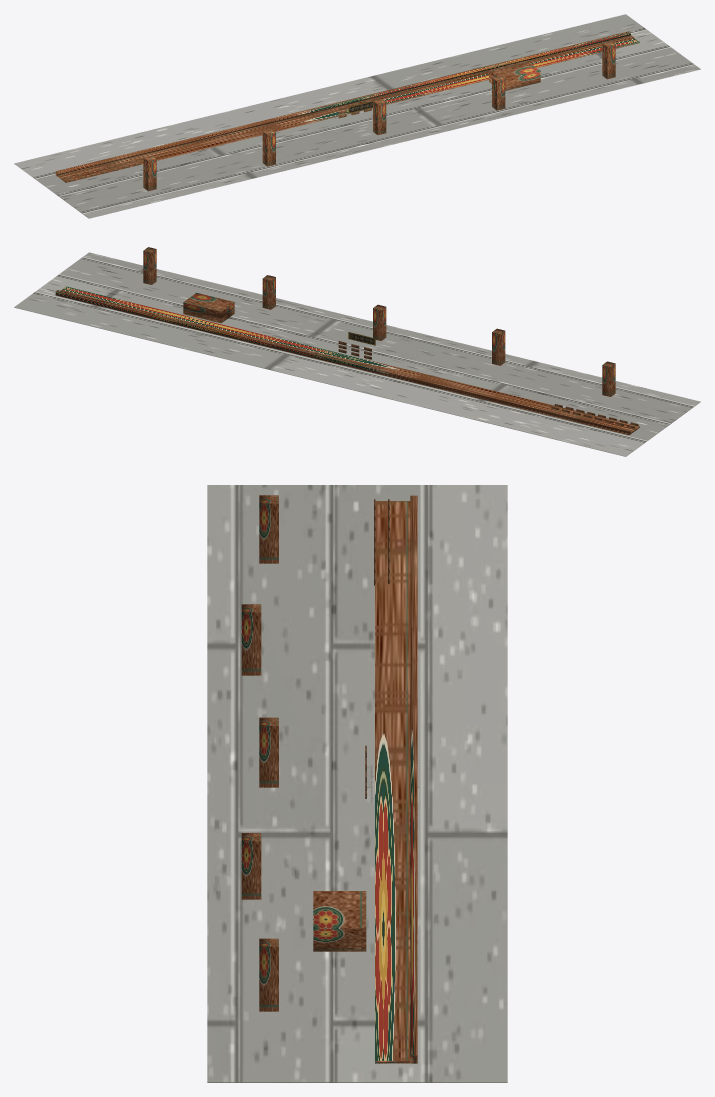
3 renders of one model, top to bottom at view 1: azimuth 30°, elevation 25°; view 2: azimuth 150°, elevation 25°; view 3: azimuth 270°, elevation 25°, orthographic. The views are drawn at different scales.
Parts seen in each view (by area): view 1: 11140_02_04628_048_01_L2__base, 11140_02_04628_048_02_L2__body, 11140_02_04628_048_06_L2__green, 11140_02_04628_048_05_L2__openings; view 2: 11140_02_04628_048_01_L2__base, 11140_02_04628_048_02_L2__body, 11140_02_04628_048_06_L2__green, 11140_02_04628_048_05_L2__openings; view 3: 11140_02_04628_048_01_L2__base, 11140_02_04628_048_02_L2__body, 11140_02_04628_048_06_L2__green.
Part boxes in pixels (box(x1,y1,x2,y2)): 11140_02_04628_048_01_L2__base: box(14, 14, 700, 218); 11140_02_04628_048_02_L2__body: box(55, 31, 639, 182); 11140_02_04628_048_06_L2__green: box(143, 41, 615, 191); 11140_02_04628_048_05_L2__openings: box(64, 99, 371, 182); 11140_02_04628_048_01_L2__base: box(14, 252, 700, 456); 11140_02_04628_048_02_L2__body: box(55, 286, 639, 435); 11140_02_04628_048_06_L2__green: box(143, 247, 615, 396); 11140_02_04628_048_05_L2__openings: box(338, 341, 638, 428); 11140_02_04628_048_01_L2__base: box(207, 485, 507, 1082); 11140_02_04628_048_02_L2__body: box(313, 495, 417, 1063); 11140_02_04628_048_06_L2__green: box(241, 495, 278, 1011).
Size of the model in its own units: 160 by 8.2 by 34.
Materials: 4 (4 with a texture image).
